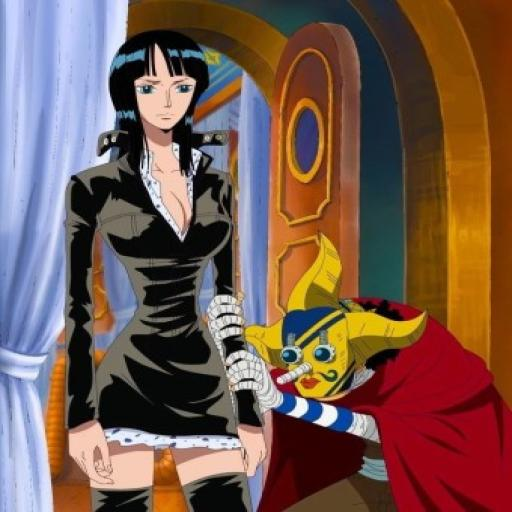NicoRobin: (102, 25, 208, 181)
Usopp: (230, 215, 432, 421)
